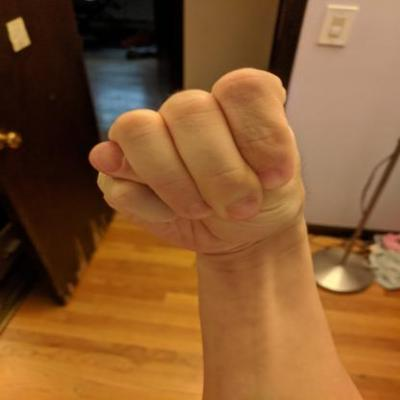hand: (82, 63, 317, 256)
